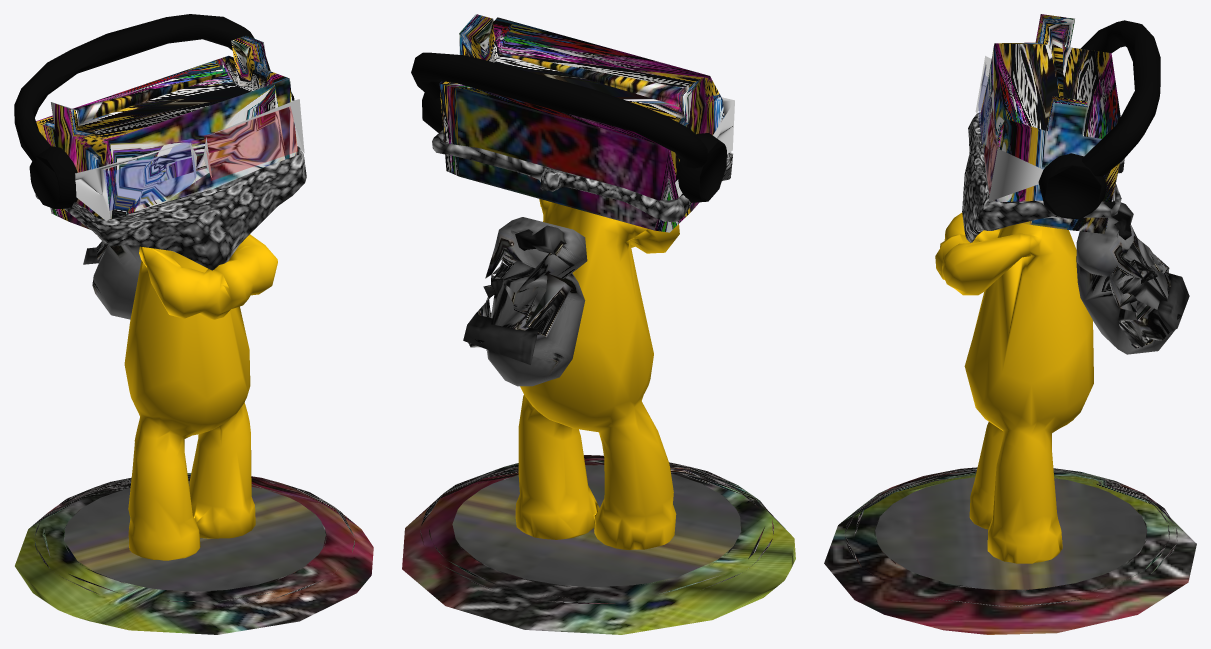
3 renders of one model, left to right at view 1: azimuth 30°, elevation 25°; view 2: azimuth 150°, elevation 25°; view 3: azimuth 270°, elevation 25°, orthographic. The views are drawn at different scales.
Bounding box in the file's own units: 1.44 × 2.14 × 1.44.
10 materials, 5 textured.
